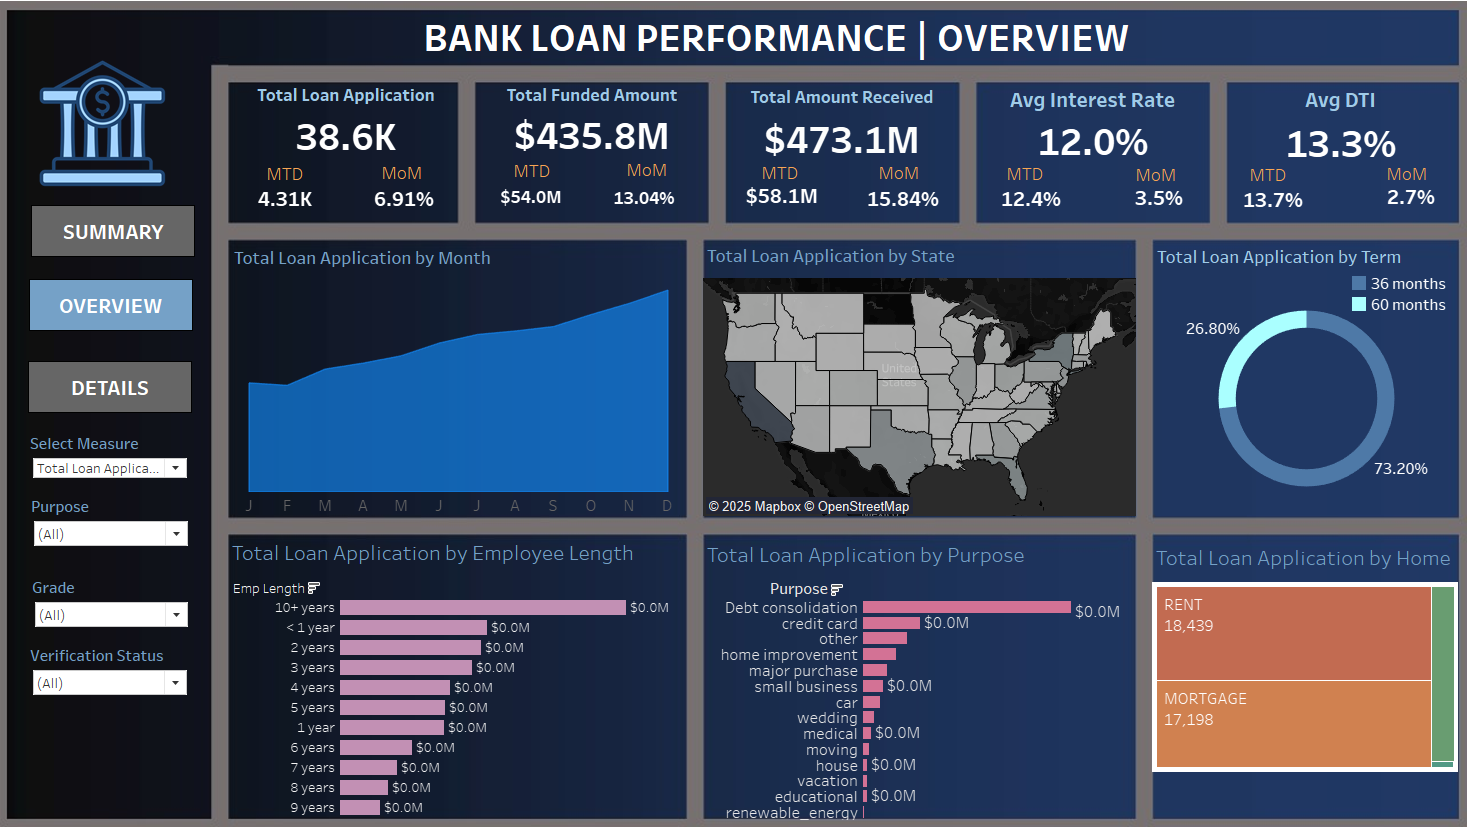

What the dashboard file says about the page in this screenshot:
{"tool":"tableau","page":{"name":"OVERVIEW","canvas":[1500,850],"ordinal":1},"visuals":[{"type":"image","param":"C:/Users/Jay/Downloads/Tableau Background 2.jpg","box":[8,8,1484,834]},{"type":"text","box":[437,22,762,49]},{"type":"image","param":"C:/Users/Jay/AppData/Local/Temp/TableauTemp/0762clh030wt7m18up9ho1kilqzh/Sheets9","box":[54,69,153,130]},{"type":"worksheet","title":"Total Loan Application","mark":"Automatic","box":[246,90,234,74]},{"type":"worksheet","title":"Total Funded Amount","mark":"Automatic","box":[493,90,232,72]},{"type":"worksheet","title":"Total Amount Received","mark":"Automatic","box":[742,92,234,75]},{"type":"worksheet","title":"Avg Interest Rate","mark":"Automatic","box":[992,92,235,76]},{"type":"worksheet","title":"Avg DTI","mark":"Automatic","box":[1242,92,231,79]},{"type":"text","box":[640,168,48,24]},{"type":"text","box":[395,171,48,24]},{"type":"text","box":[892,171,48,24]},{"type":"text","box":[527,172,47,19]},{"type":"text","box":[1400,172,48,24]},{"type":"text","box":[1149,173,48,24]},{"type":"text","box":[775,174,47,19]},{"type":"text","box":[280,175,47,19]},{"type":"text","box":[1020,175,47,19]},{"type":"text","box":[1263,176,47,19]},{"type":"worksheet","title":"MTD Total Funded Amount","mark":"Automatic","box":[500,183,96,47]},{"type":"worksheet","title":"MoM Total Funded Amount","mark":"Automatic","box":[610,183,102,49]},{"type":"worksheet","title":"MTD Total Loan Application","mark":"Automatic","box":[262,189,80,40]},{"type":"worksheet","title":"MTD Total Received Amount","mark":"Automatic","box":[758,189,82,33]},{"type":"worksheet","title":"MoM Avg DTI","mark":"Automatic","box":[1394,189,67,35]},{"type":"worksheet","title":"MoM Received Amount","mark":"Automatic","box":[879,192,81,34]},{"type":"worksheet","title":"MoM Avg Interest","mark":"Automatic","box":[1137,192,78,32]},{"type":"worksheet","title":"MTD Avg  DTI","mark":"Automatic","box":[1245,192,90,36]},{"type":"worksheet","title":"MoM Loan Application","mark":"Automatic","box":[377,193,87,31]},{"type":"worksheet","title":"MTD Avg Interest","mark":"Automatic","box":[1008,194,79,30]},{"type":"dashboard-object","box":[48,216,164,52]},{"type":"worksheet","title":"Maps","mark":"Multipolygon","box":[720,250,433,277]},{"type":"worksheet","title":"Term Pie Chart","mark":"Pie","rows":["Calculation_2279665900586516515","Calculation_2279665900586516515"],"box":[1170,251,307,278]},{"type":"worksheet","title":"Total Loan Application by Month","mark":"Area","rows":["Calculation_2279665900580900897","Calculation_2279665900580900897"],"cols":["issue_date"],"box":[247,252,457,276]},{"type":"legend","title":"Term Pie Chart","param":"[federated.0mfh5rp1uvokj7133s2b20uocadv].[none:term:nk]","box":[1366,284,104,43]},{"type":"dashboard-object","box":[46,290,164,52]},{"type":"dashboard-object","box":[45,372,164,52]},{"type":"parameter","param":"[Parameters].[Installment Parameter]","box":[47,444,160,48]},{"type":"filter","title":"Avg DTI","param":"[federated.0mfh5rp1uvokj7133s2b20uocadv].[none:purpose:nk]","box":[48,507,160,64]},{"type":"worksheet","title":"Emp Length","mark":"Automatic","rows":["emp_length"],"cols":["Calculation_2279665900580900897"],"box":[245,545,460,283]},{"type":"worksheet","title":"Purpose","mark":"Automatic","rows":["purpose"],"cols":["Calculation_2279665900580900897"],"box":[720,547,432,284]},{"type":"worksheet","title":"Home Ownership","mark":"Automatic","box":[1169,550,306,278]},{"type":"filter","title":"Avg DTI","param":"[federated.0mfh5rp1uvokj7133s2b20uocadv].[none:grade:nk]","box":[49,588,159,56]},{"type":"filter","title":"Avg DTI","param":"[federated.0mfh5rp1uvokj7133s2b20uocadv].[none:verification_status:nk]","box":[47,656,160,59]}]}

Visuals, with their boxes in screenshot pixels (x1, y1, x2, y2), scaled from the page's 1500x850 canvas onto the 1468x827 screenshot:
image: 8 8 1460 819
text: 428 21 1173 69
image: 53 67 203 194
"Total Loan Application" worksheet: 241 88 470 160
"Total Funded Amount" worksheet: 482 88 710 158
"Total Amount Received" worksheet: 726 90 955 162
"Avg Interest Rate" worksheet: 971 90 1201 163
"Avg DTI" worksheet: 1216 90 1442 166
text: 626 163 673 187
text: 387 166 434 190
text: 873 166 920 190
text: 516 167 562 186
text: 1370 167 1417 191
text: 1124 168 1171 192
text: 758 169 804 188
text: 274 170 320 189
text: 998 170 1044 189
text: 1236 171 1282 190
"MTD Total Funded Amount" worksheet: 489 178 583 224
"MoM Total Funded Amount" worksheet: 597 178 697 226
"MTD Total Loan Application" worksheet: 256 184 335 223
"MTD Total Received Amount" worksheet: 742 184 822 216
"MoM Avg DTI" worksheet: 1364 184 1430 218
"MoM Received Amount" worksheet: 860 187 940 220
"MoM Avg Interest" worksheet: 1113 187 1189 218
"MTD Avg  DTI" worksheet: 1218 187 1307 222
"MoM Loan Application" worksheet: 369 188 454 218
"MTD Avg Interest" worksheet: 986 189 1064 218
dashboard-object: 47 210 207 261
"Maps" worksheet (Multipolygon marks): 705 243 1128 513
"Term Pie Chart" worksheet (Pie marks): 1145 244 1445 515
"Total Loan Application by Month" worksheet (Area marks): 242 245 689 514
"Term Pie Chart" legend: 1337 276 1439 318
dashboard-object: 45 282 206 333
dashboard-object: 44 362 205 413
parameter: 46 432 203 479
"Avg DTI" filter: 47 493 204 556
"Emp Length" worksheet: 240 530 690 806
"Purpose" worksheet: 705 532 1127 809
"Home Ownership" worksheet: 1144 535 1444 806
"Avg DTI" filter: 48 572 204 627
"Avg DTI" filter: 46 638 203 696
